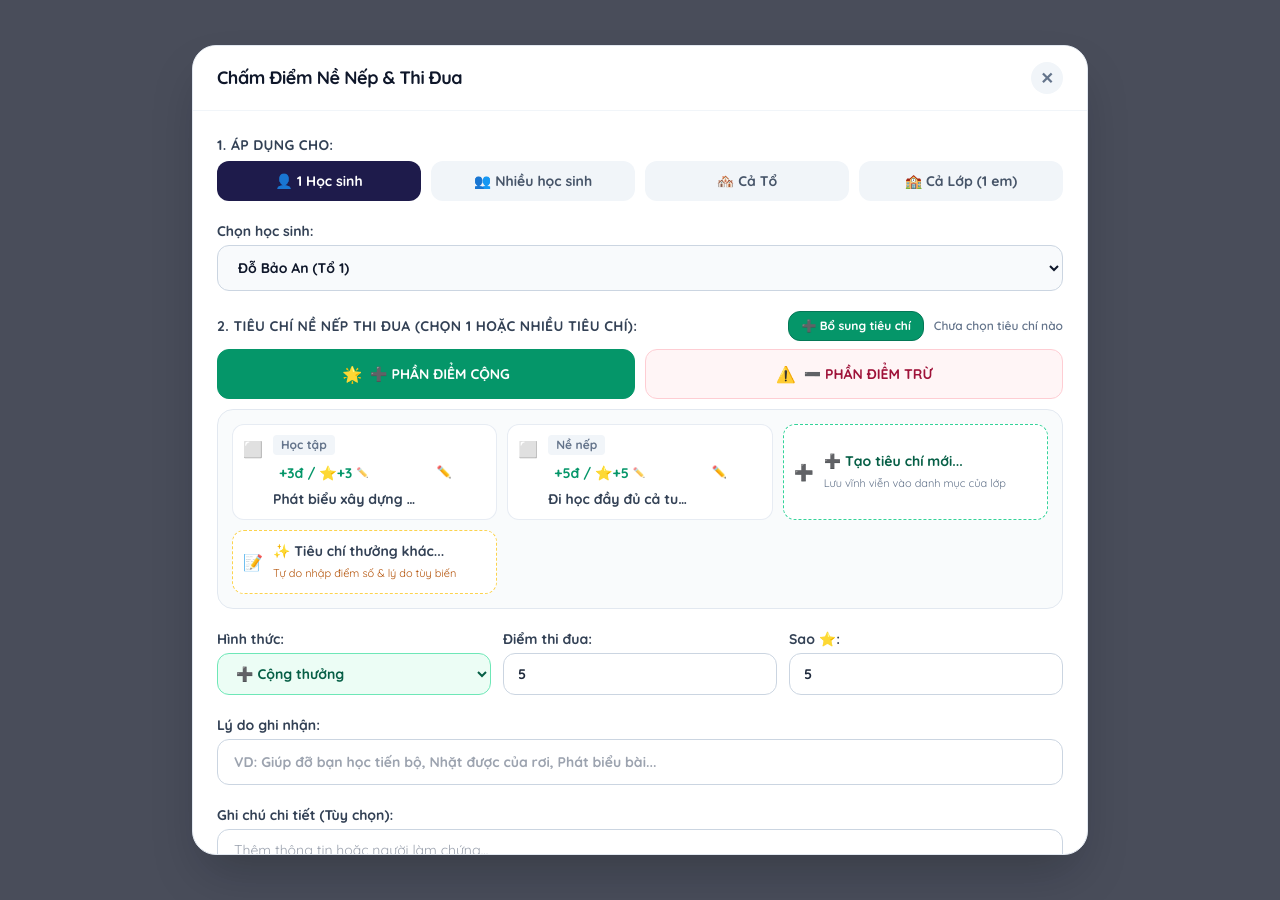
Scenario: AwardPointsModal Component › cho phép mở form bổ sung tiêu chí mới vào phần điểm cộng và tự động kích hoạt tiêu chí vừa tạo
Note: Bấm nút "➕ Bổ sung tiêu chí"
Click the button "➕ Bổ sung tiêu chí". click: coordinates (856, 326)
box: [788,311,924,341]
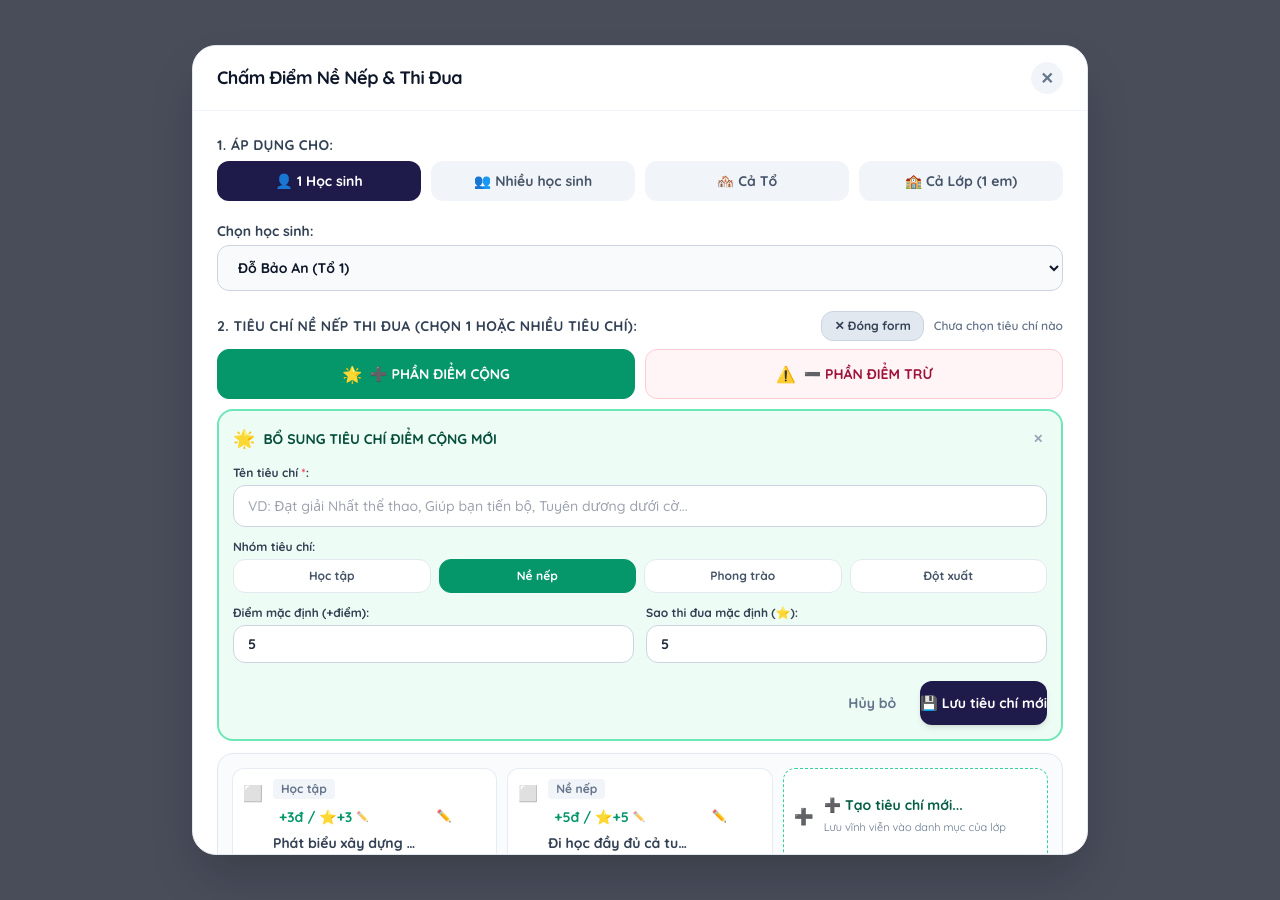
Result: the text "Bổ sung tiêu chí Điểm Cộng mới" is shown at [264,429,497,449]
Note: Nhập tên tiêu chí mới
Replace the text in the field with placeholder "VD: Đạt giải Nhất thể thao" with "Đạt giải Nhất thi Olympic Tiếng Anh". click: coordinates (640, 506)
box: [233,485,1047,527]
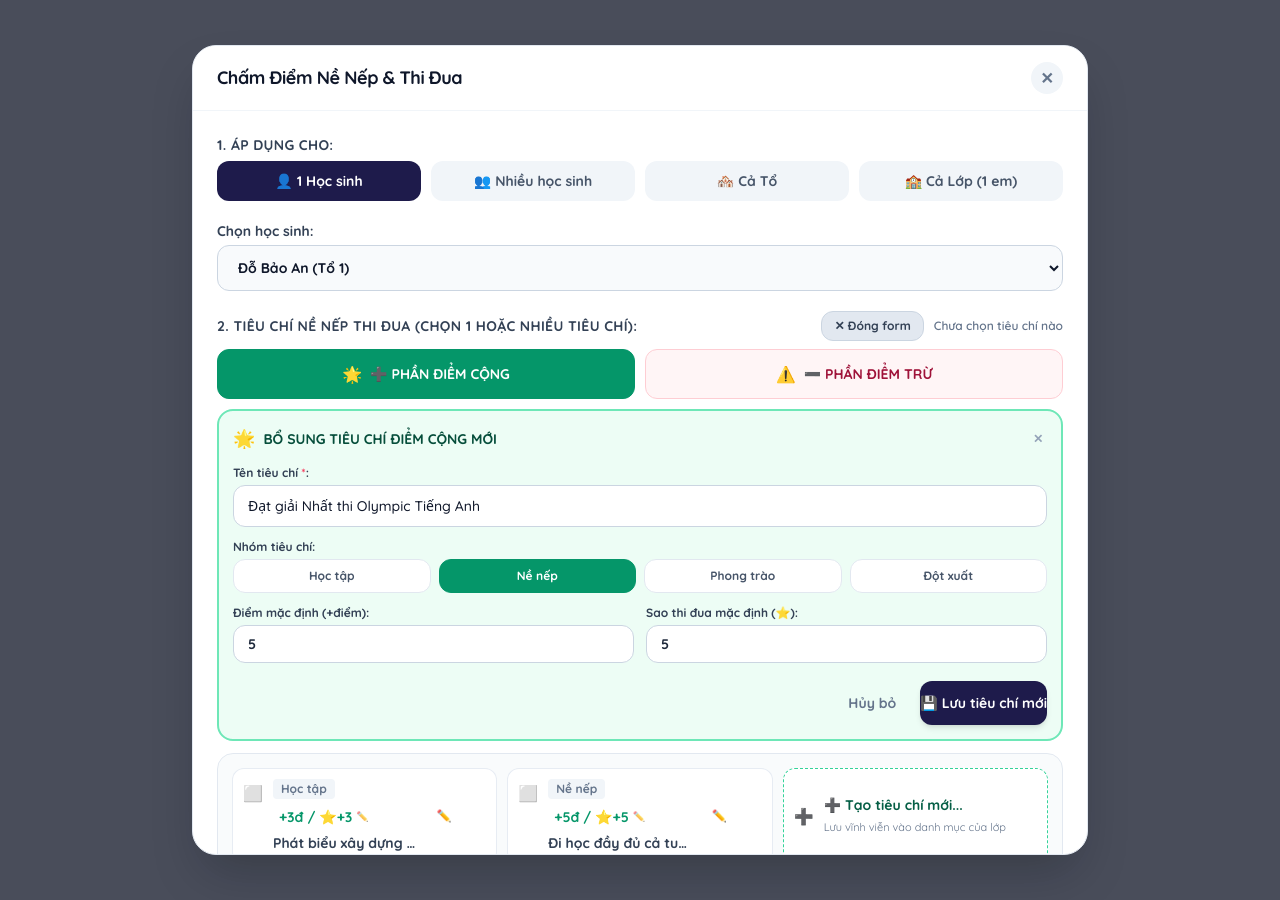
Note: Bấm lưu tiêu chí mới
Click the button "💾 Lưu tiêu chí mới". click: coordinates (984, 703)
box: [920,681,1047,725]
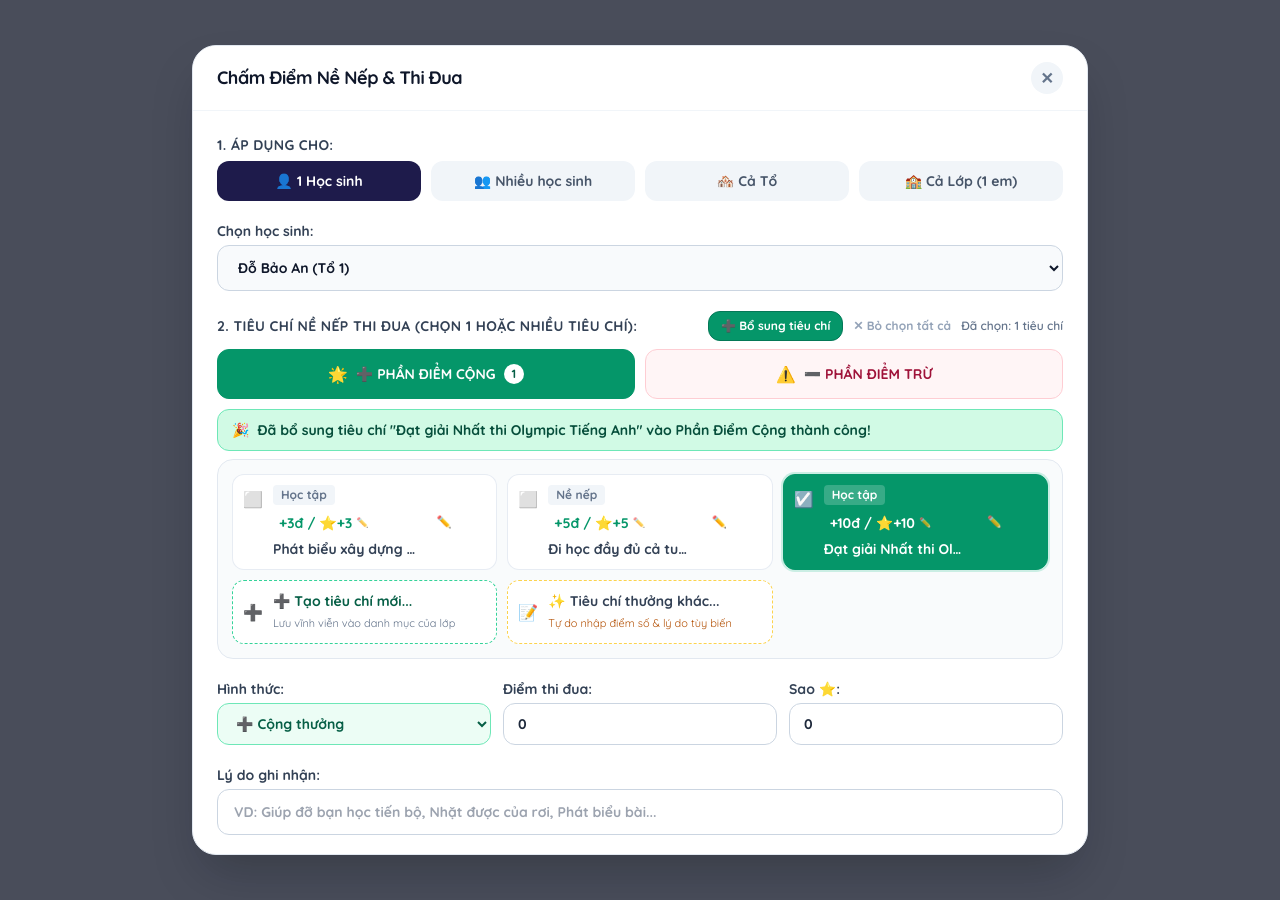
Result: the text "Đạt giải Nhất thi Olympic Tiếng Anh" is shown at [824,539,969,559]
Result: the text "Đã bổ sung tiêu chí \"Đạt giải Nhất thi Olympic Tiếng Anh\"" is shown at [258,421,871,439]
